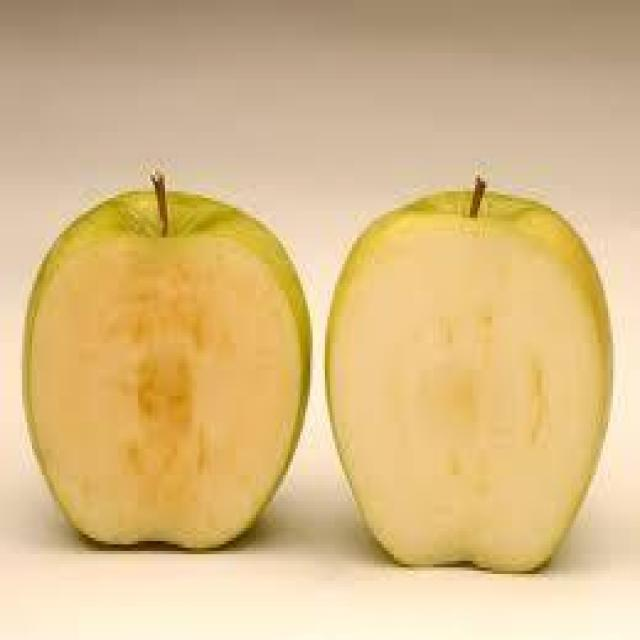maca: (322, 172, 613, 570), (20, 168, 310, 548)
